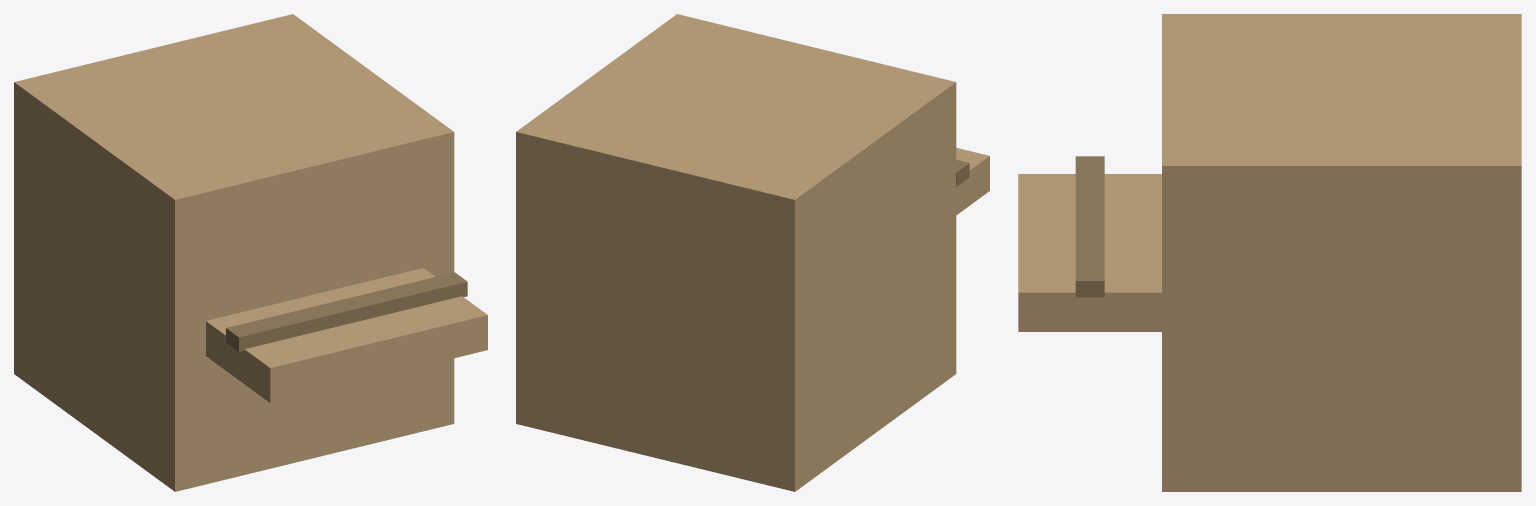
File: 45_door.glb
The picture shows the model from 3 angles, left to right: view 1: azimuth 30°, elevation 25°; view 2: azimuth 150°, elevation 25°; view 3: azimuth 270°, elevation 25°; orthographic projection. The views are drawn at different scales.
Parts seen in each view (by area): view 1: Core, Door, Band_1.2; view 2: Core, Door; view 3: Core, Door, Band_1.2.
Boxes of the visible parts, bbox=[...] form: Core: bbox=[14, 14, 454, 491]; Door: bbox=[206, 268, 487, 402]; Band_1.2: bbox=[226, 272, 467, 351]; Core: bbox=[516, 14, 956, 491]; Door: bbox=[546, 147, 989, 355]; Core: bbox=[1162, 14, 1521, 491]; Door: bbox=[1018, 174, 1161, 331]; Band_1.2: bbox=[1075, 156, 1104, 297].
Size of the model in its own units: 1 by 1 by 1.4.
